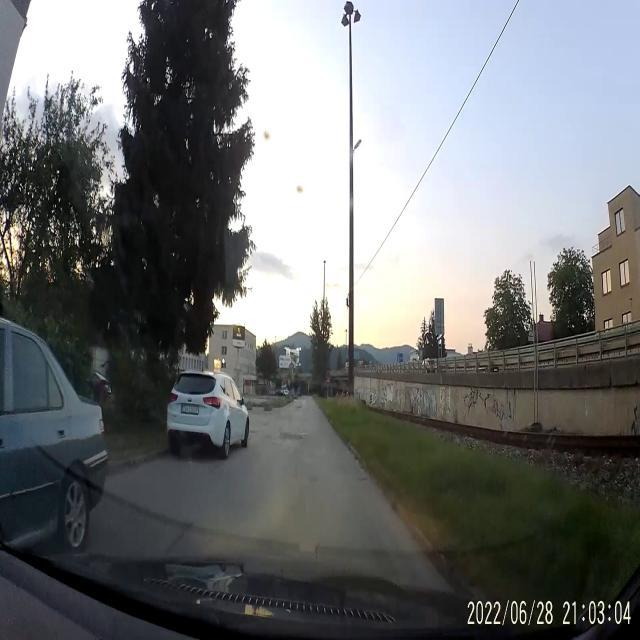Pothole: (278, 429, 304, 444)
